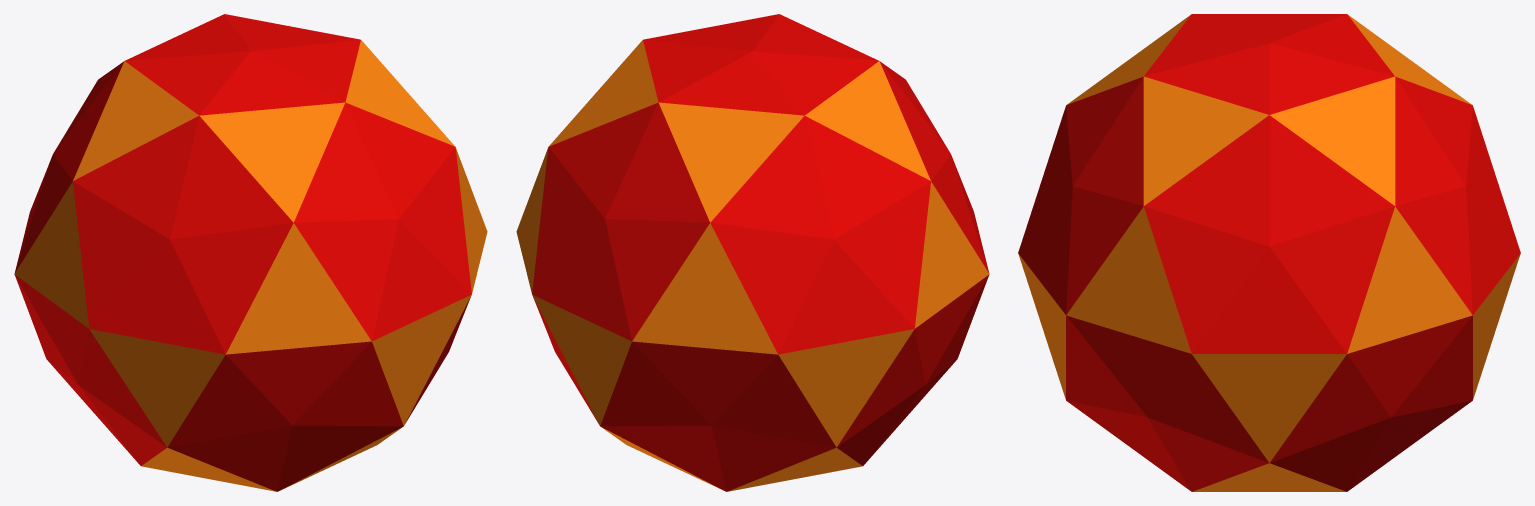
3 views of the same model, side by side, from view 1: azimuth 30°, elevation 25°; view 2: azimuth 150°, elevation 25°; view 3: azimuth 270°, elevation 25° (orthographic). The views are drawn at different scales.
Parts seen in each view (by area): view 1: Icosphere_2e; view 2: Icosphere_2e; view 3: Icosphere_2e.
Boxes of the visible parts, bbox=[...] form: Icosphere_2e: bbox=[14, 14, 487, 491]; Icosphere_2e: bbox=[516, 14, 989, 491]; Icosphere_2e: bbox=[1018, 14, 1520, 491].
Bounding box in the file's own units: 1.9 × 1.84 × 2.
